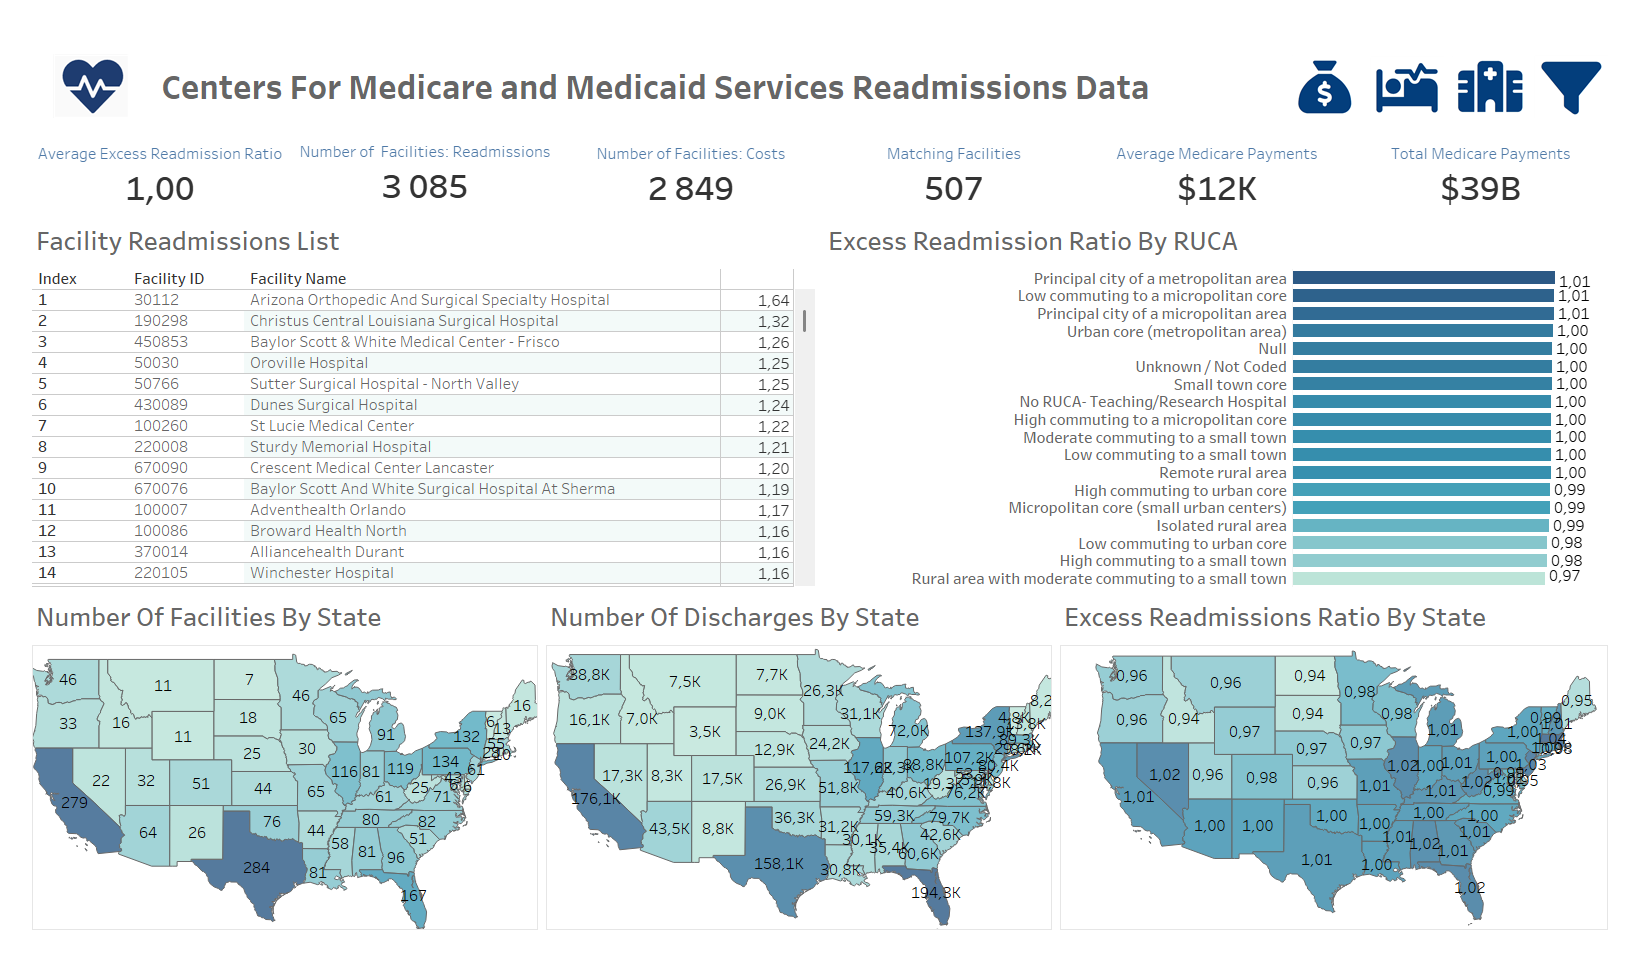

This screenshot's page, from the dashboard's own definition file:
{"tool":"tableau","page":{"name":"Readmissions","canvas":[1600,900],"ordinal":2},"visuals":[{"type":"image","param":"Image/Medicare Heart.png","box":[8,8,130,73]},{"type":"text","box":[138,8,1035,73]},{"type":"dashboard-object","box":[1173,8,99,73]},{"type":"dashboard-object","box":[1272,8,82,73]},{"type":"dashboard-object","box":[1354,8,110,73]},{"type":"dashboard-object","box":[1464,8,128,73]},{"type":"worksheet","title":"BAN: average_excess_readmissions_ratio","mark":"Automatic","box":[8,81,264,108]},{"type":"worksheet","title":"BAN: number_of_facilities_readmissions","mark":"Automatic","box":[272,81,264,108]},{"type":"worksheet","title":"BAN: number_of_facilities_costs","mark":"Automatic","box":[536,81,264,108]},{"type":"worksheet","title":"BAN: number_of matching_facilities","mark":"Automatic","box":[800,81,264,108]},{"type":"worksheet","title":"BAN: average_medicare_payments","mark":"Automatic","box":[1064,81,264,108]},{"type":"worksheet","title":"BAN: total_medicare_payments","mark":"Automatic","box":[1328,81,264,108]},{"type":"parameter","param":"[Parameters].[Parameter 1]","box":[1170,105,423,53]},{"type":"text","box":[1170,158,423,43]},{"type":"worksheet","title":"facility_readmissions_list","mark":"Automatic","rows":["facility_id","facility_name"],"box":[8,189,755,407]},{"type":"worksheet","title":"readmissions_ratio_by_ruca","mark":"Automatic","rows":["ruca_short_description"],"cols":["excess_readmission_ratio"],"box":[763,189,829,407]},{"type":"filter","title":"facility_readmissions_list","param":"[federated.1q0qv3h1t6cght14akmdx0md0oiq].[none:facility_name:nk]","box":[1170,201,423,53]},{"type":"filter","title":"facility_readmissions_list","param":"[federated.1q0qv3h1t6cght14akmdx0md0oiq].[avg:excess_readmission_ratio:qk]","box":[1170,254,423,53]},{"type":"text","box":[1170,307,423,53]},{"type":"filter","title":"readmissions_ratio_by_ruca","param":"[federated.1q0qv3h1t6cght14akmdx0md0oiq].[avg:excess_readmission_ratio:qk]","box":[1170,360,423,53]},{"type":"text","box":[1170,413,423,43]},{"type":"filter","title":"number_of_discharges_by_state","param":"[federated.0mq2zlw0y2h5yh11fkkwg1usiex1].[sum:total_discharges:qk]","box":[1170,456,423,53]},{"type":"filter","title":"readmissions_ratio_by_state","param":"[federated.0mq2zlw0y2h5yh11fkkwg1usiex1].[avg:average_excess_readmissions_ratio:","box":[1170,508.9,423,53]},{"type":"worksheet","title":"number_of_facilities_by state (readmissions)","mark":"Automatic","box":[8,596,528,296]},{"type":"worksheet","title":"number_of_discharges_by_state","mark":"Automatic","box":[536,596,528,296]},{"type":"worksheet","title":"readmissions_ratio_by_state","mark":"Automatic","box":[1064,596,528,296]}]}

Visuals, with their boxes on the page's 1600x900 design canvas (x1, y1, x2, y2). These are canvas units, not pixel positions in the 1638x974 screenshot, which may show the page scaled, cropped or inside an application window:
image: (x1=8, y1=8, x2=138, y2=81)
text: (x1=138, y1=8, x2=1173, y2=81)
dashboard-object: (x1=1173, y1=8, x2=1272, y2=81)
dashboard-object: (x1=1272, y1=8, x2=1354, y2=81)
dashboard-object: (x1=1354, y1=8, x2=1464, y2=81)
dashboard-object: (x1=1464, y1=8, x2=1592, y2=81)
"BAN: average_excess_readmissions_ratio" worksheet: (x1=8, y1=81, x2=272, y2=189)
"BAN: number_of_facilities_readmissions" worksheet: (x1=272, y1=81, x2=536, y2=189)
"BAN: number_of_facilities_costs" worksheet: (x1=536, y1=81, x2=800, y2=189)
"BAN: number_of matching_facilities" worksheet: (x1=800, y1=81, x2=1064, y2=189)
"BAN: average_medicare_payments" worksheet: (x1=1064, y1=81, x2=1328, y2=189)
"BAN: total_medicare_payments" worksheet: (x1=1328, y1=81, x2=1592, y2=189)
parameter: (x1=1170, y1=105, x2=1593, y2=158)
text: (x1=1170, y1=158, x2=1593, y2=201)
"facility_readmissions_list" worksheet: (x1=8, y1=189, x2=763, y2=596)
"readmissions_ratio_by_ruca" worksheet: (x1=763, y1=189, x2=1592, y2=596)
"facility_readmissions_list" filter: (x1=1170, y1=201, x2=1593, y2=254)
"facility_readmissions_list" filter: (x1=1170, y1=254, x2=1593, y2=307)
text: (x1=1170, y1=307, x2=1593, y2=360)
"readmissions_ratio_by_ruca" filter: (x1=1170, y1=360, x2=1593, y2=413)
text: (x1=1170, y1=413, x2=1593, y2=456)
"number_of_discharges_by_state" filter: (x1=1170, y1=456, x2=1593, y2=509)
"readmissions_ratio_by_state" filter: (x1=1170, y1=509, x2=1593, y2=562)
"number_of_facilities_by state (readmissions)" worksheet: (x1=8, y1=596, x2=536, y2=892)
"number_of_discharges_by_state" worksheet: (x1=536, y1=596, x2=1064, y2=892)
"readmissions_ratio_by_state" worksheet: (x1=1064, y1=596, x2=1592, y2=892)
